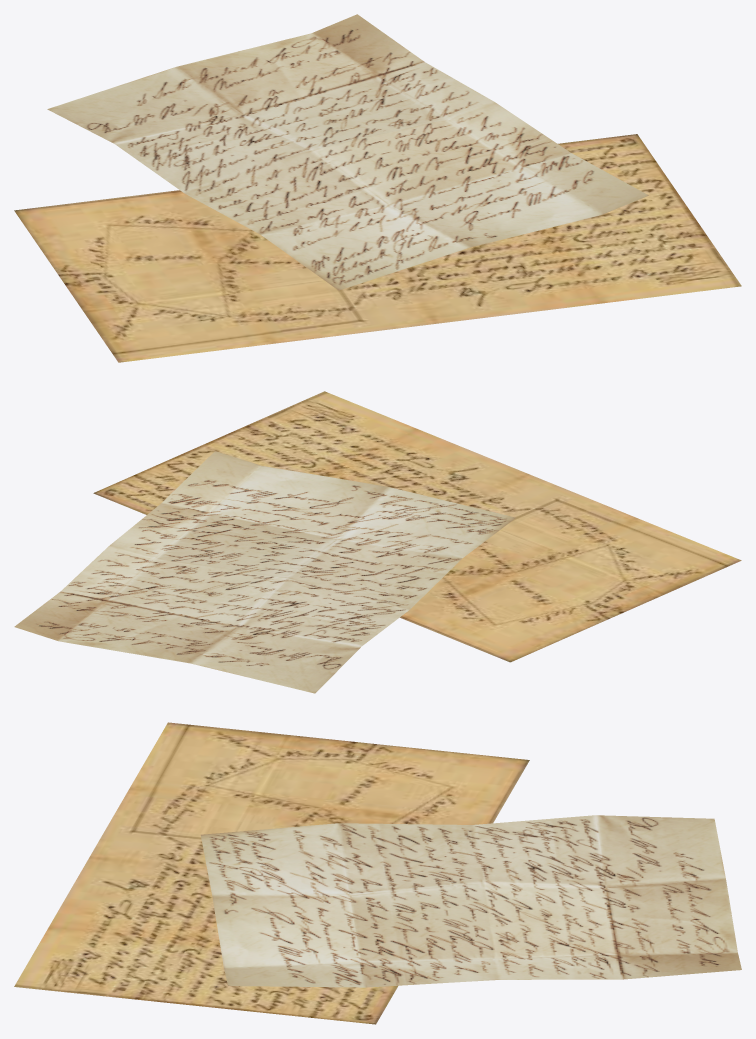
File: Papers 1.fbx
3 renders of one model, top to bottom at view 1: azimuth 30°, elevation 25°; view 2: azimuth 150°, elevation 25°; view 3: azimuth 270°, elevation 25°, orthographic. The views are drawn at different scales.
Parts seen in each view (by area): view 1: Plane.014; view 2: Plane.014; view 3: Plane.014.
Part boxes in pixels (x1,y1,x2,y2): Plane.014: (14,14,741,362); Plane.014: (14,391,741,693); Plane.014: (14,722,741,1024).
Bounding box in the file's own units: 384 × 6.29 × 391.
